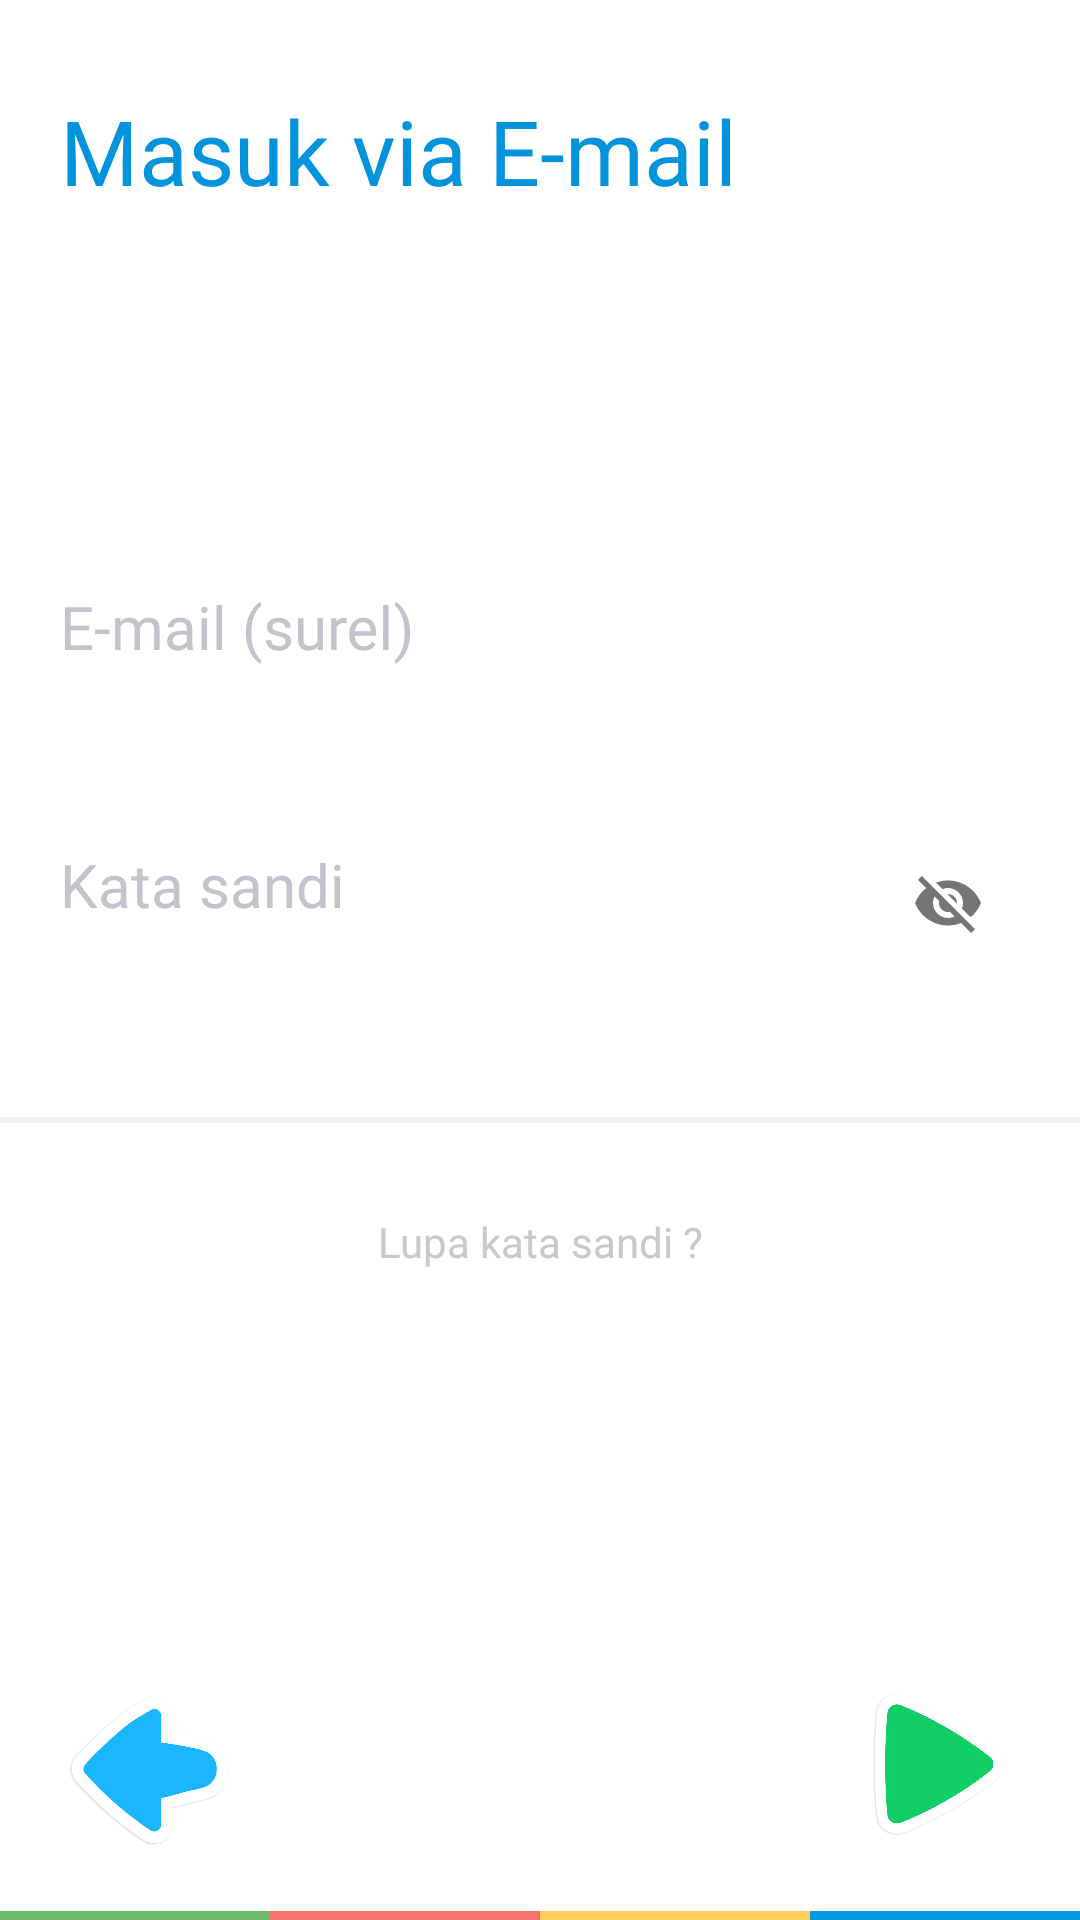

Icon click points for this 1080w x 1920h phone screenshot, format [x,y]:
back: [144,1776]
play: [934,1769]
